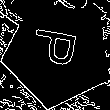P_E: (30, 30, 87, 75)
